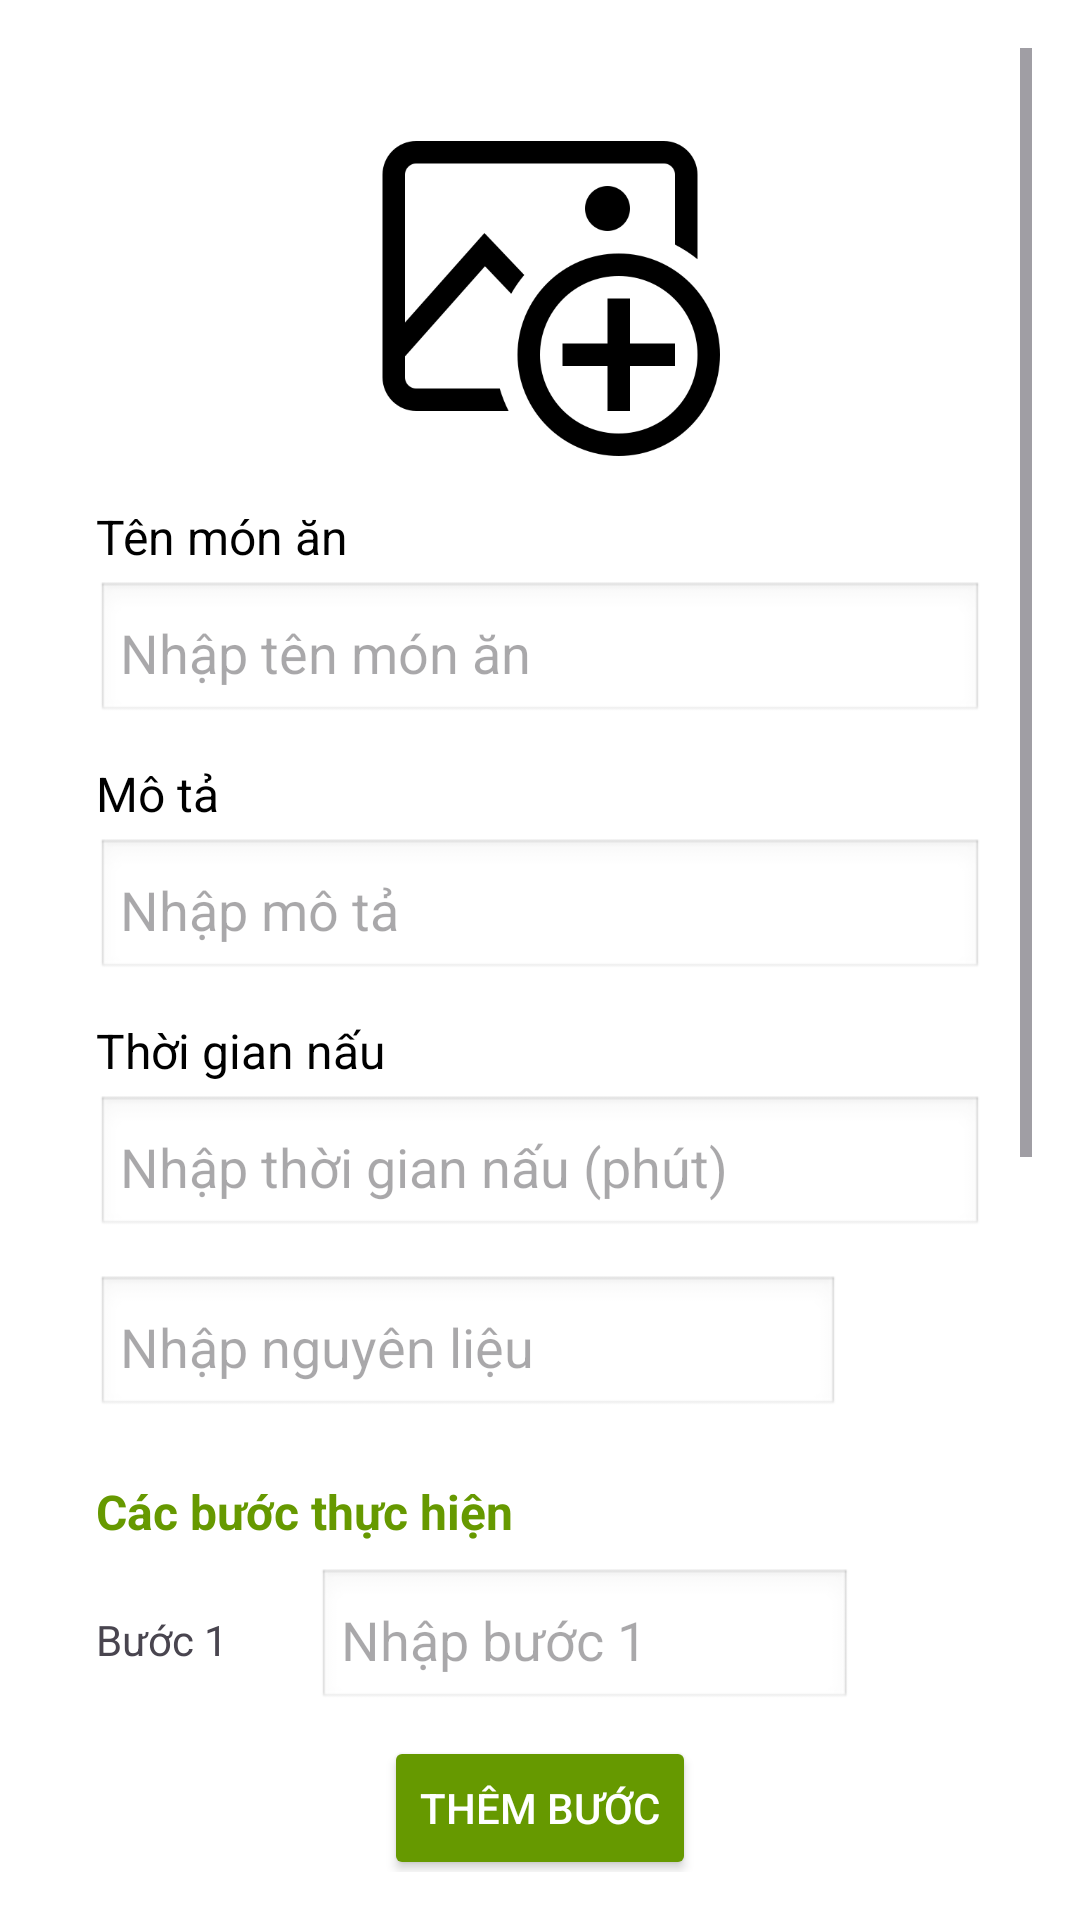

Where icons sit on this 1080w x 1920h app screen, as (x1, y1, x2, y2):
add: (382, 141, 720, 456)
